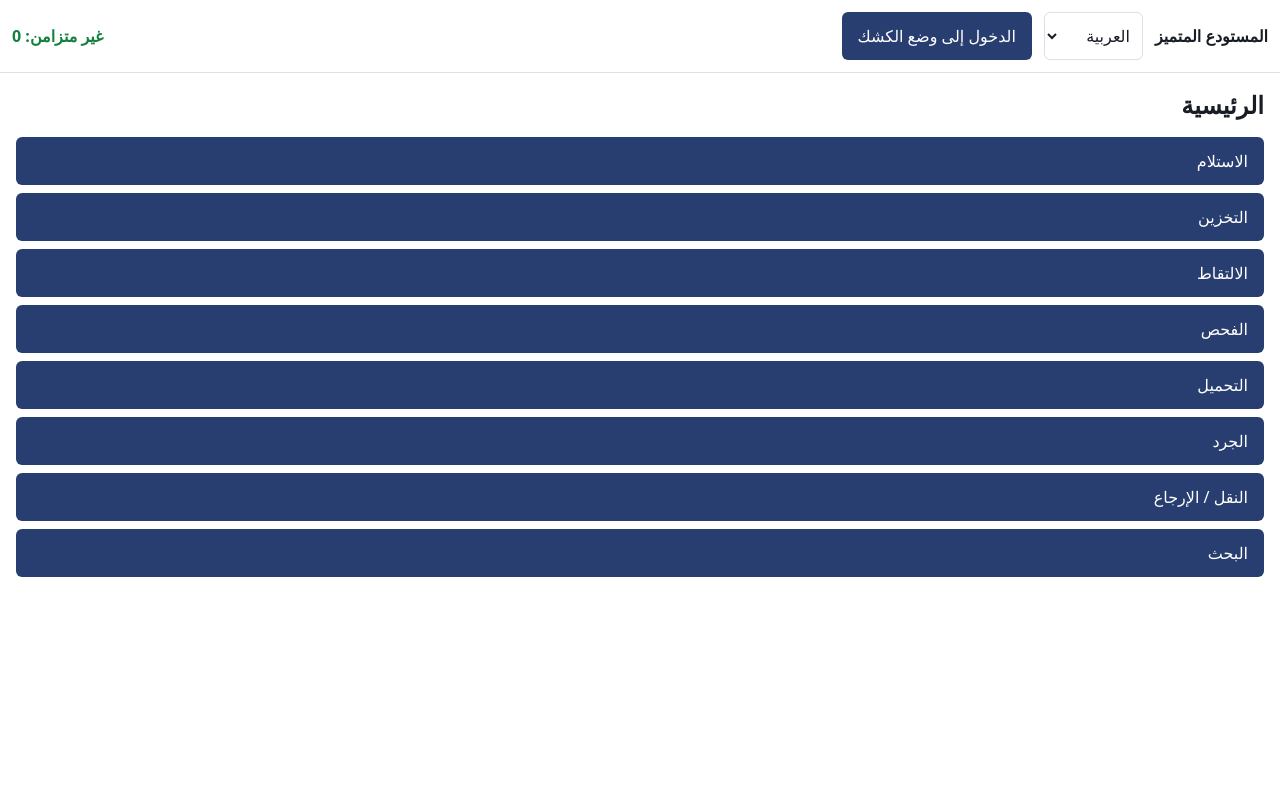
it: PDA shell routing — nine D4 screens › locale switching via the shell's own selector › switching to "hi" updates dir, lang, and the rendered screen title
Expected: the heading "الرئيسية" is shown, [1181,88,1264,121]
Select "الهندية" in the dropdown with test id "locale-select" at (1093, 36), box [1044,12,1143,60]
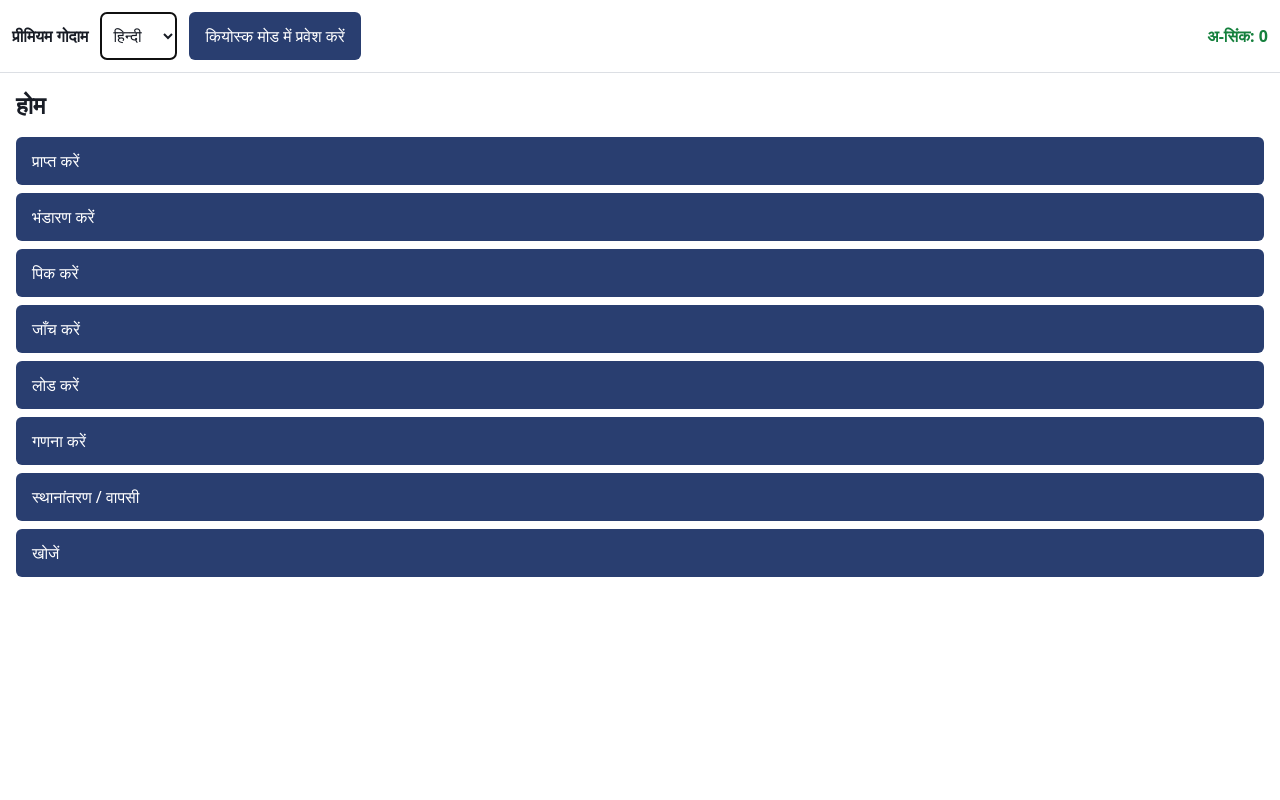
Result: the heading "होम" is shown at [16,88,46,121]
